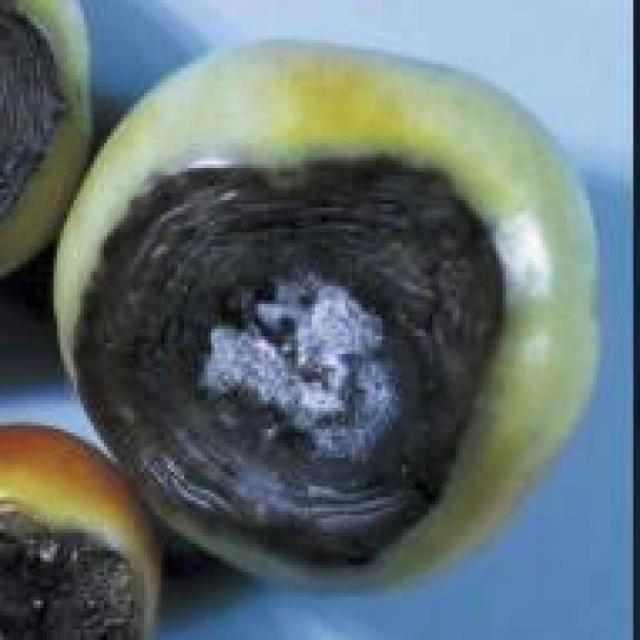Blossom End Rot Fruit: (20, 74, 297, 375)
